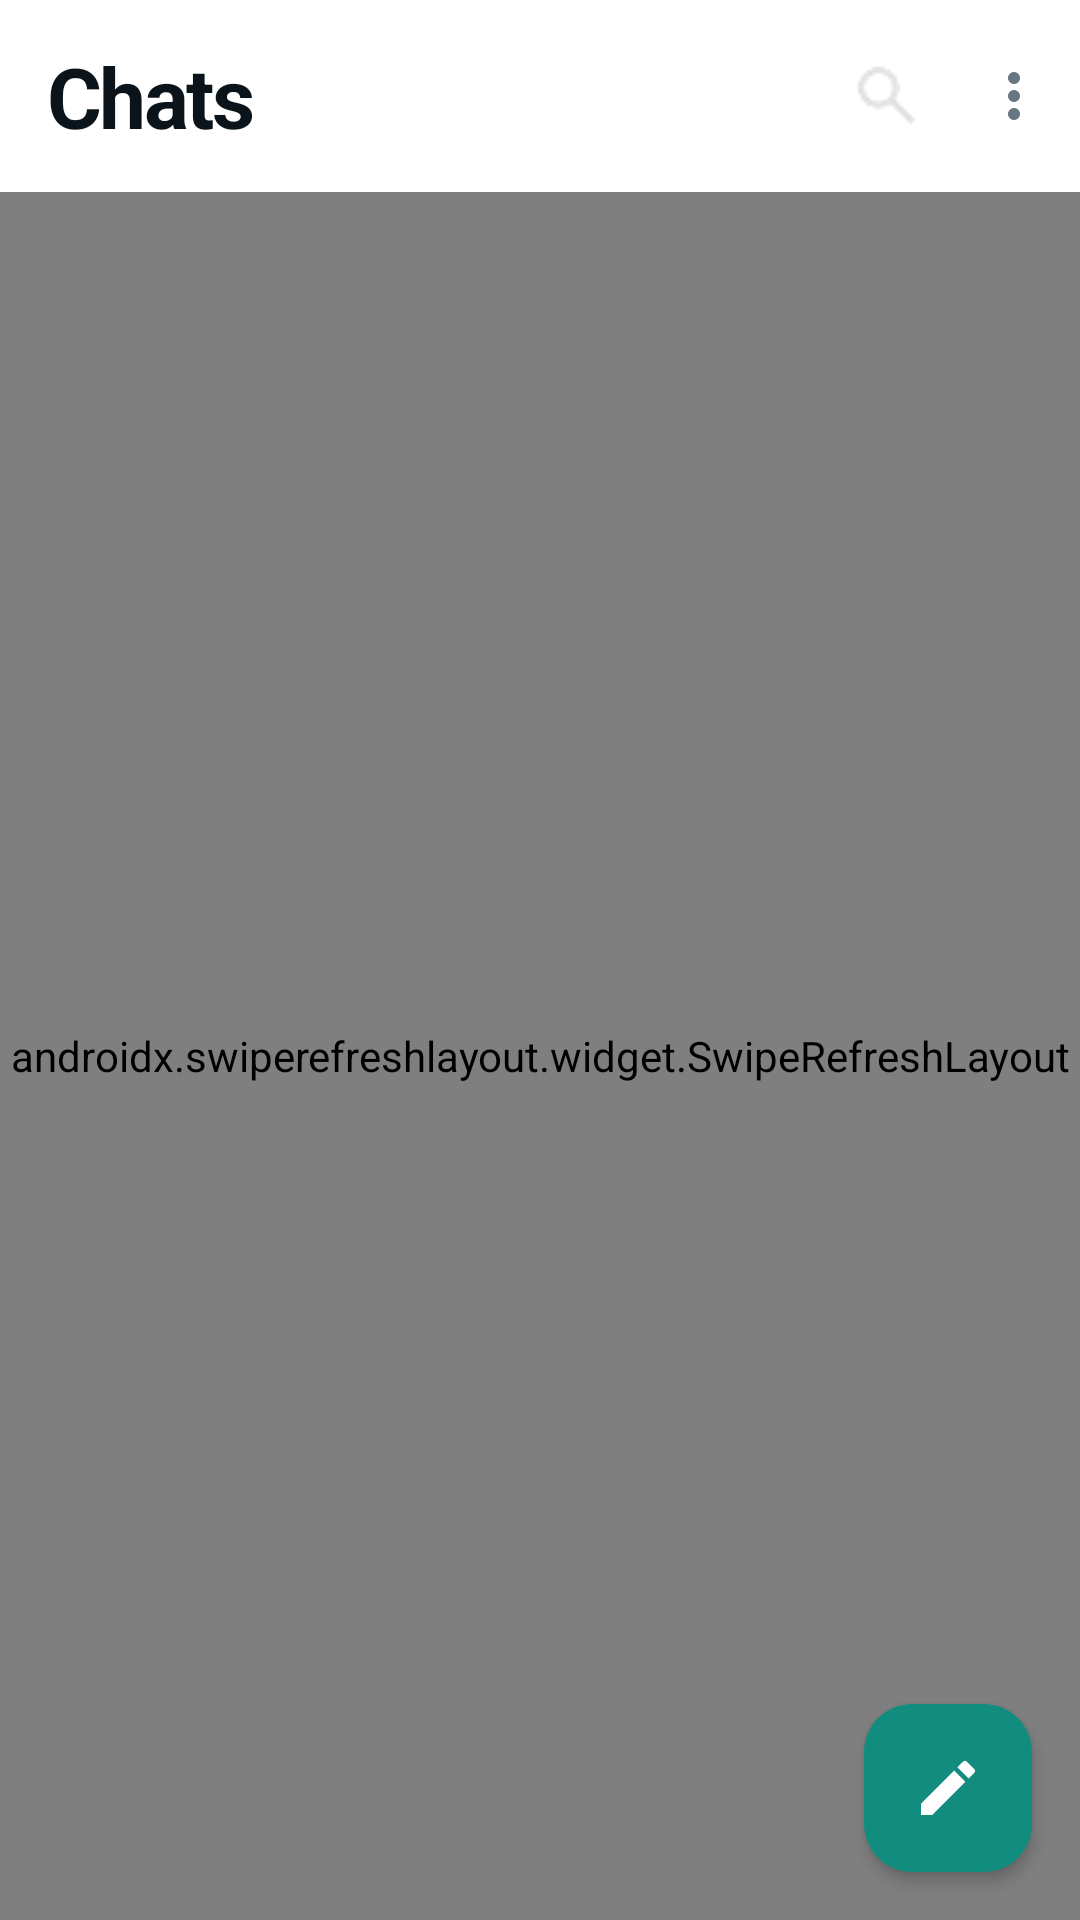

Screen size 1080×1920. Icon name, then its box in pixels as bbox=(x1, y1, x2, y2):
Start new chat: bbox=(864, 1704, 1032, 1872)
